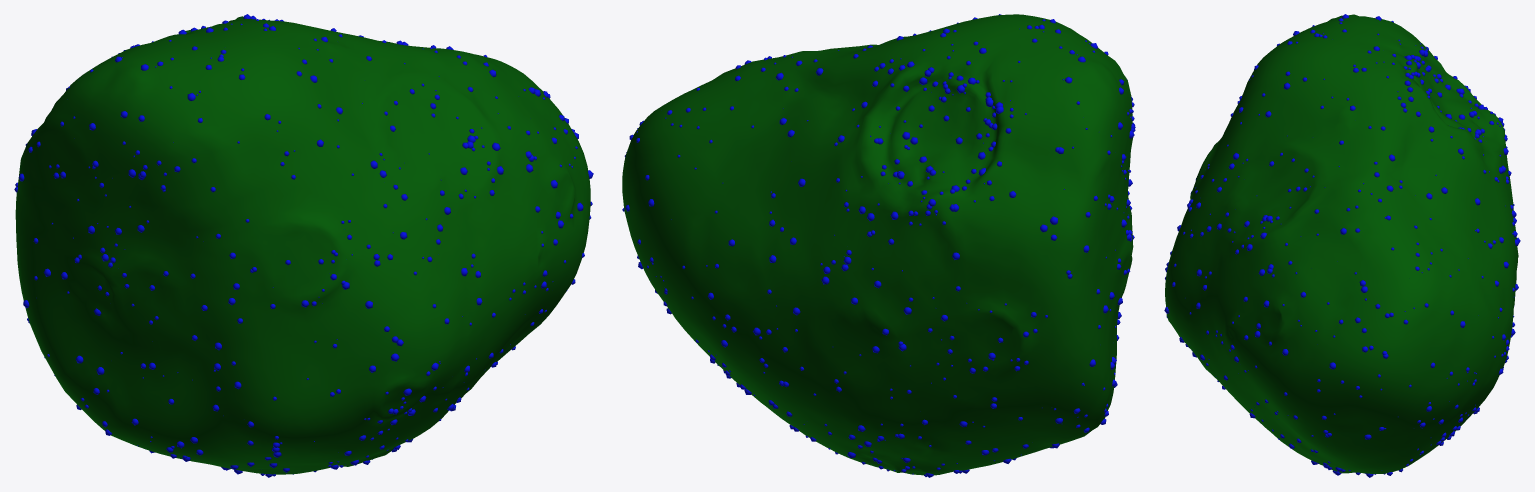
The model's file is Daphne_LP.fbx.
The picture shows the model from 3 angles, left to right: view 1: azimuth 30°, elevation 25°; view 2: azimuth 150°, elevation 25°; view 3: azimuth 270°, elevation 25°; orthographic projection. The views are drawn at different scales.
Visible parts, largest first — view 1: Daphne_LP, Daphe_LP_Debris; view 2: Daphne_LP, Daphe_LP_Debris; view 3: Daphne_LP, Daphe_LP_Debris.
Boxes of the visible parts, bbox=[...] form: Daphne_LP: bbox=[15, 16, 590, 474]; Daphe_LP_Debris: bbox=[14, 14, 593, 477]; Daphne_LP: bbox=[622, 14, 1133, 475]; Daphe_LP_Debris: bbox=[622, 14, 1135, 477]; Daphne_LP: bbox=[1165, 14, 1518, 473]; Daphe_LP_Debris: bbox=[1164, 14, 1520, 477].
Bounding box in the file's own units: 234 × 197 × 168.
